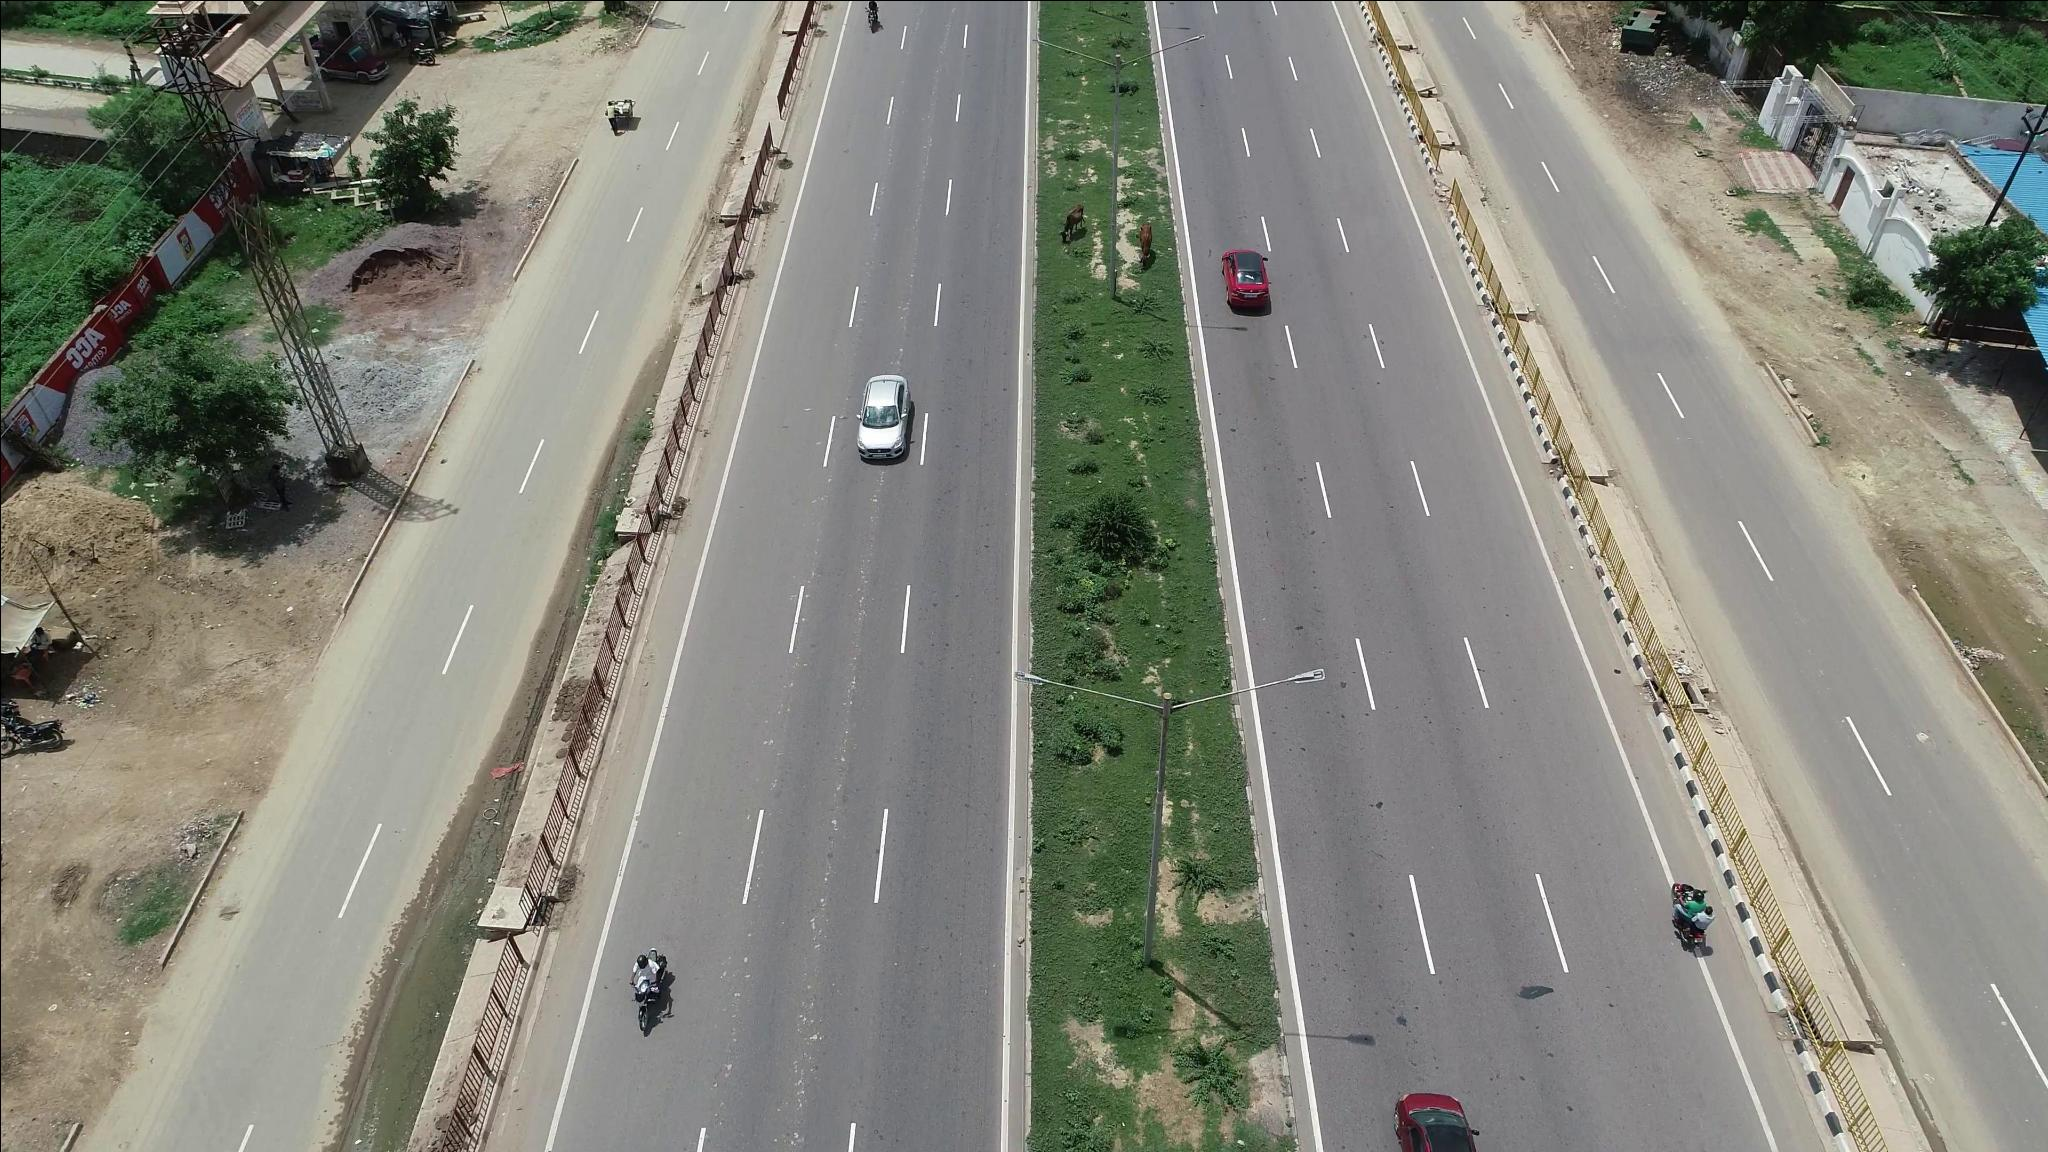Ravelling: (798, 798, 850, 1068), (833, 563, 873, 789)
Waterlogging: (361, 876, 488, 1125)
